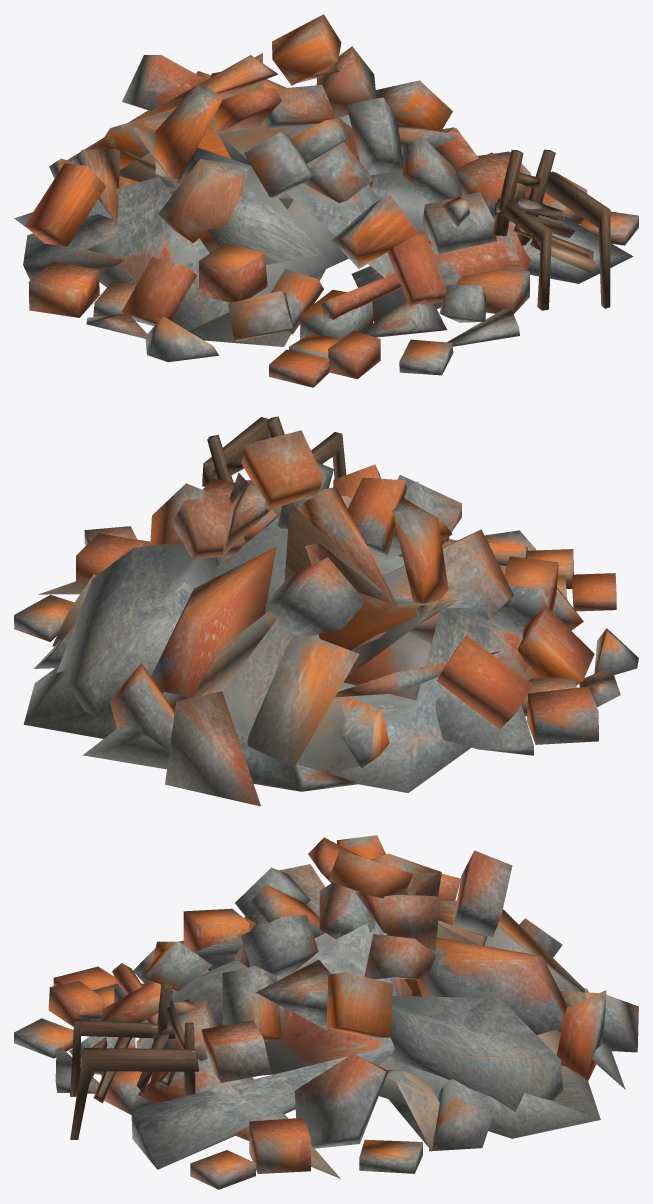
Rendered from rubble.glb.
3 renders of one model, top to bottom at view 1: azimuth 30°, elevation 25°; view 2: azimuth 150°, elevation 25°; view 3: azimuth 270°, elevation 25°, orthographic. The views are drawn at different scales.
Bounding box in the file's own units: 2.4 × 0.9069 × 2.38.
Materials: 1 (1 with a texture image).
